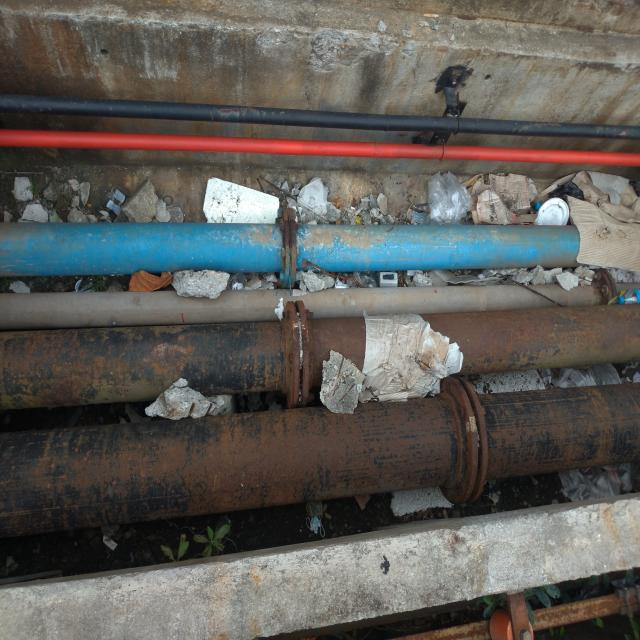gas: (3, 380, 640, 538), (1, 304, 640, 410), (0, 223, 575, 275), (0, 283, 615, 327), (0, 95, 640, 137), (0, 128, 640, 165)
